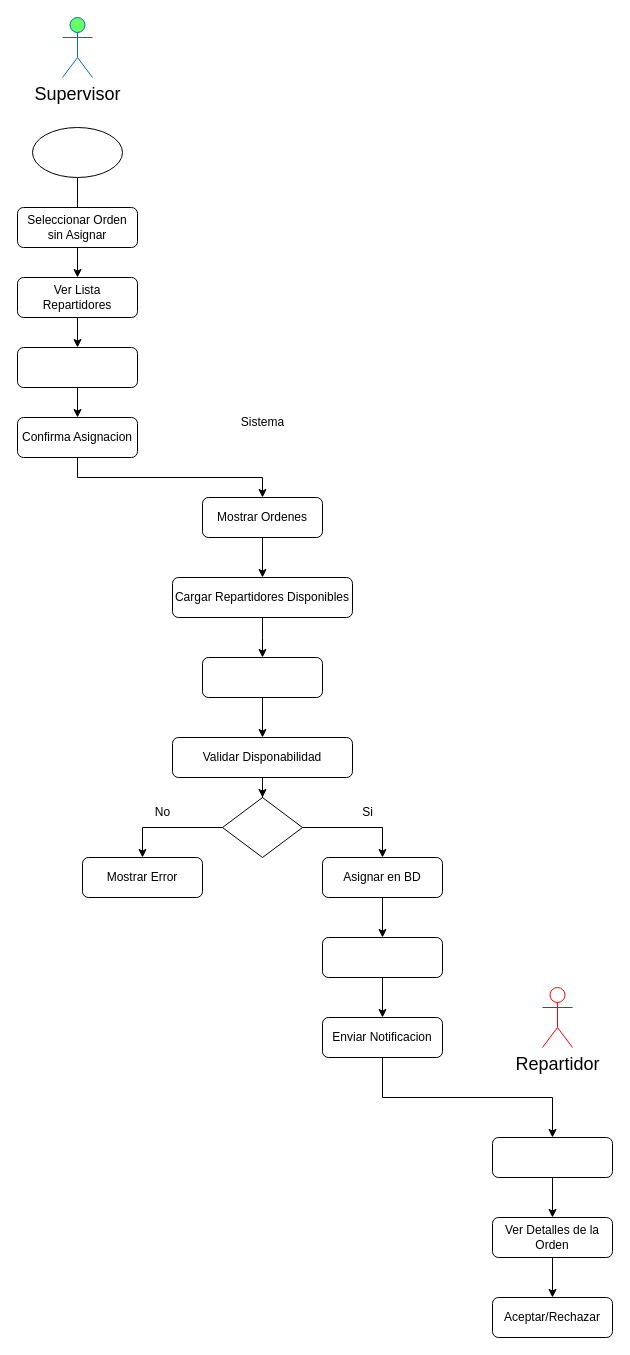
Some shapes in this 630 by 1355 pixel diagram are drawn without their labels. The centre of each missing label's shape, as x and y in pixels:
"Actualizar Tarjeta" belongs at (382,957).
"Calcular Ruta y Tiempo" belongs at (262,677).
"Inicio" belongs at (77,152).
"Recibir Notificacion" belongs at (552,1157).
"Selecciona Repartidor" belongs at (77,367).
"¿Disponible?" belongs at (262,827).
